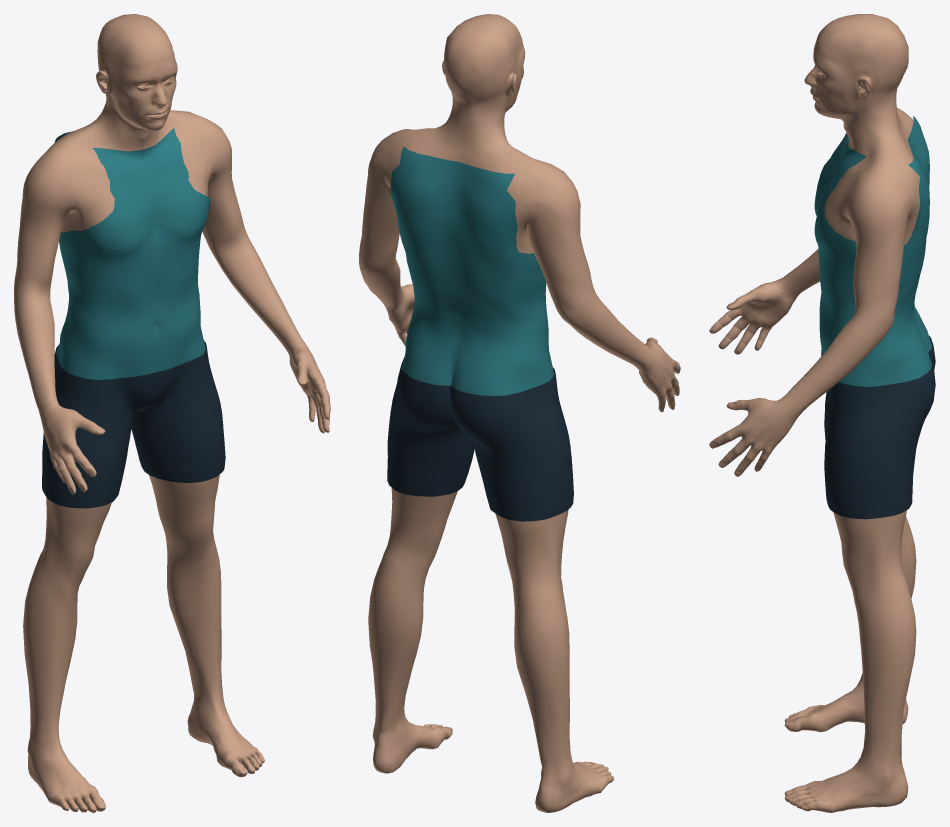
File: athlete.glb
3 renders of one model, left to right at view 1: azimuth 30°, elevation 25°; view 2: azimuth 150°, elevation 25°; view 3: azimuth 270°, elevation 25°, orthographic.
Visible parts, largest first — view 1: athlete-body, training-top, training-shorts; view 2: athlete-body, training-top, training-shorts; view 3: athlete-body, training-shorts, training-top.
Boxes of the visible parts, x1,y1,x2,y2 form: athlete-body: [14, 14, 330, 812]; training-top: [55, 128, 210, 380]; training-shorts: [42, 341, 225, 508]; athlete-body: [359, 14, 680, 812]; training-top: [390, 146, 554, 395]; training-shorts: [387, 358, 573, 521]; athlete-body: [709, 14, 919, 812]; training-shorts: [821, 336, 935, 519]; training-top: [814, 116, 932, 386].
Size of the model in its own units: 0.675 by 1.8 by 0.4938.
